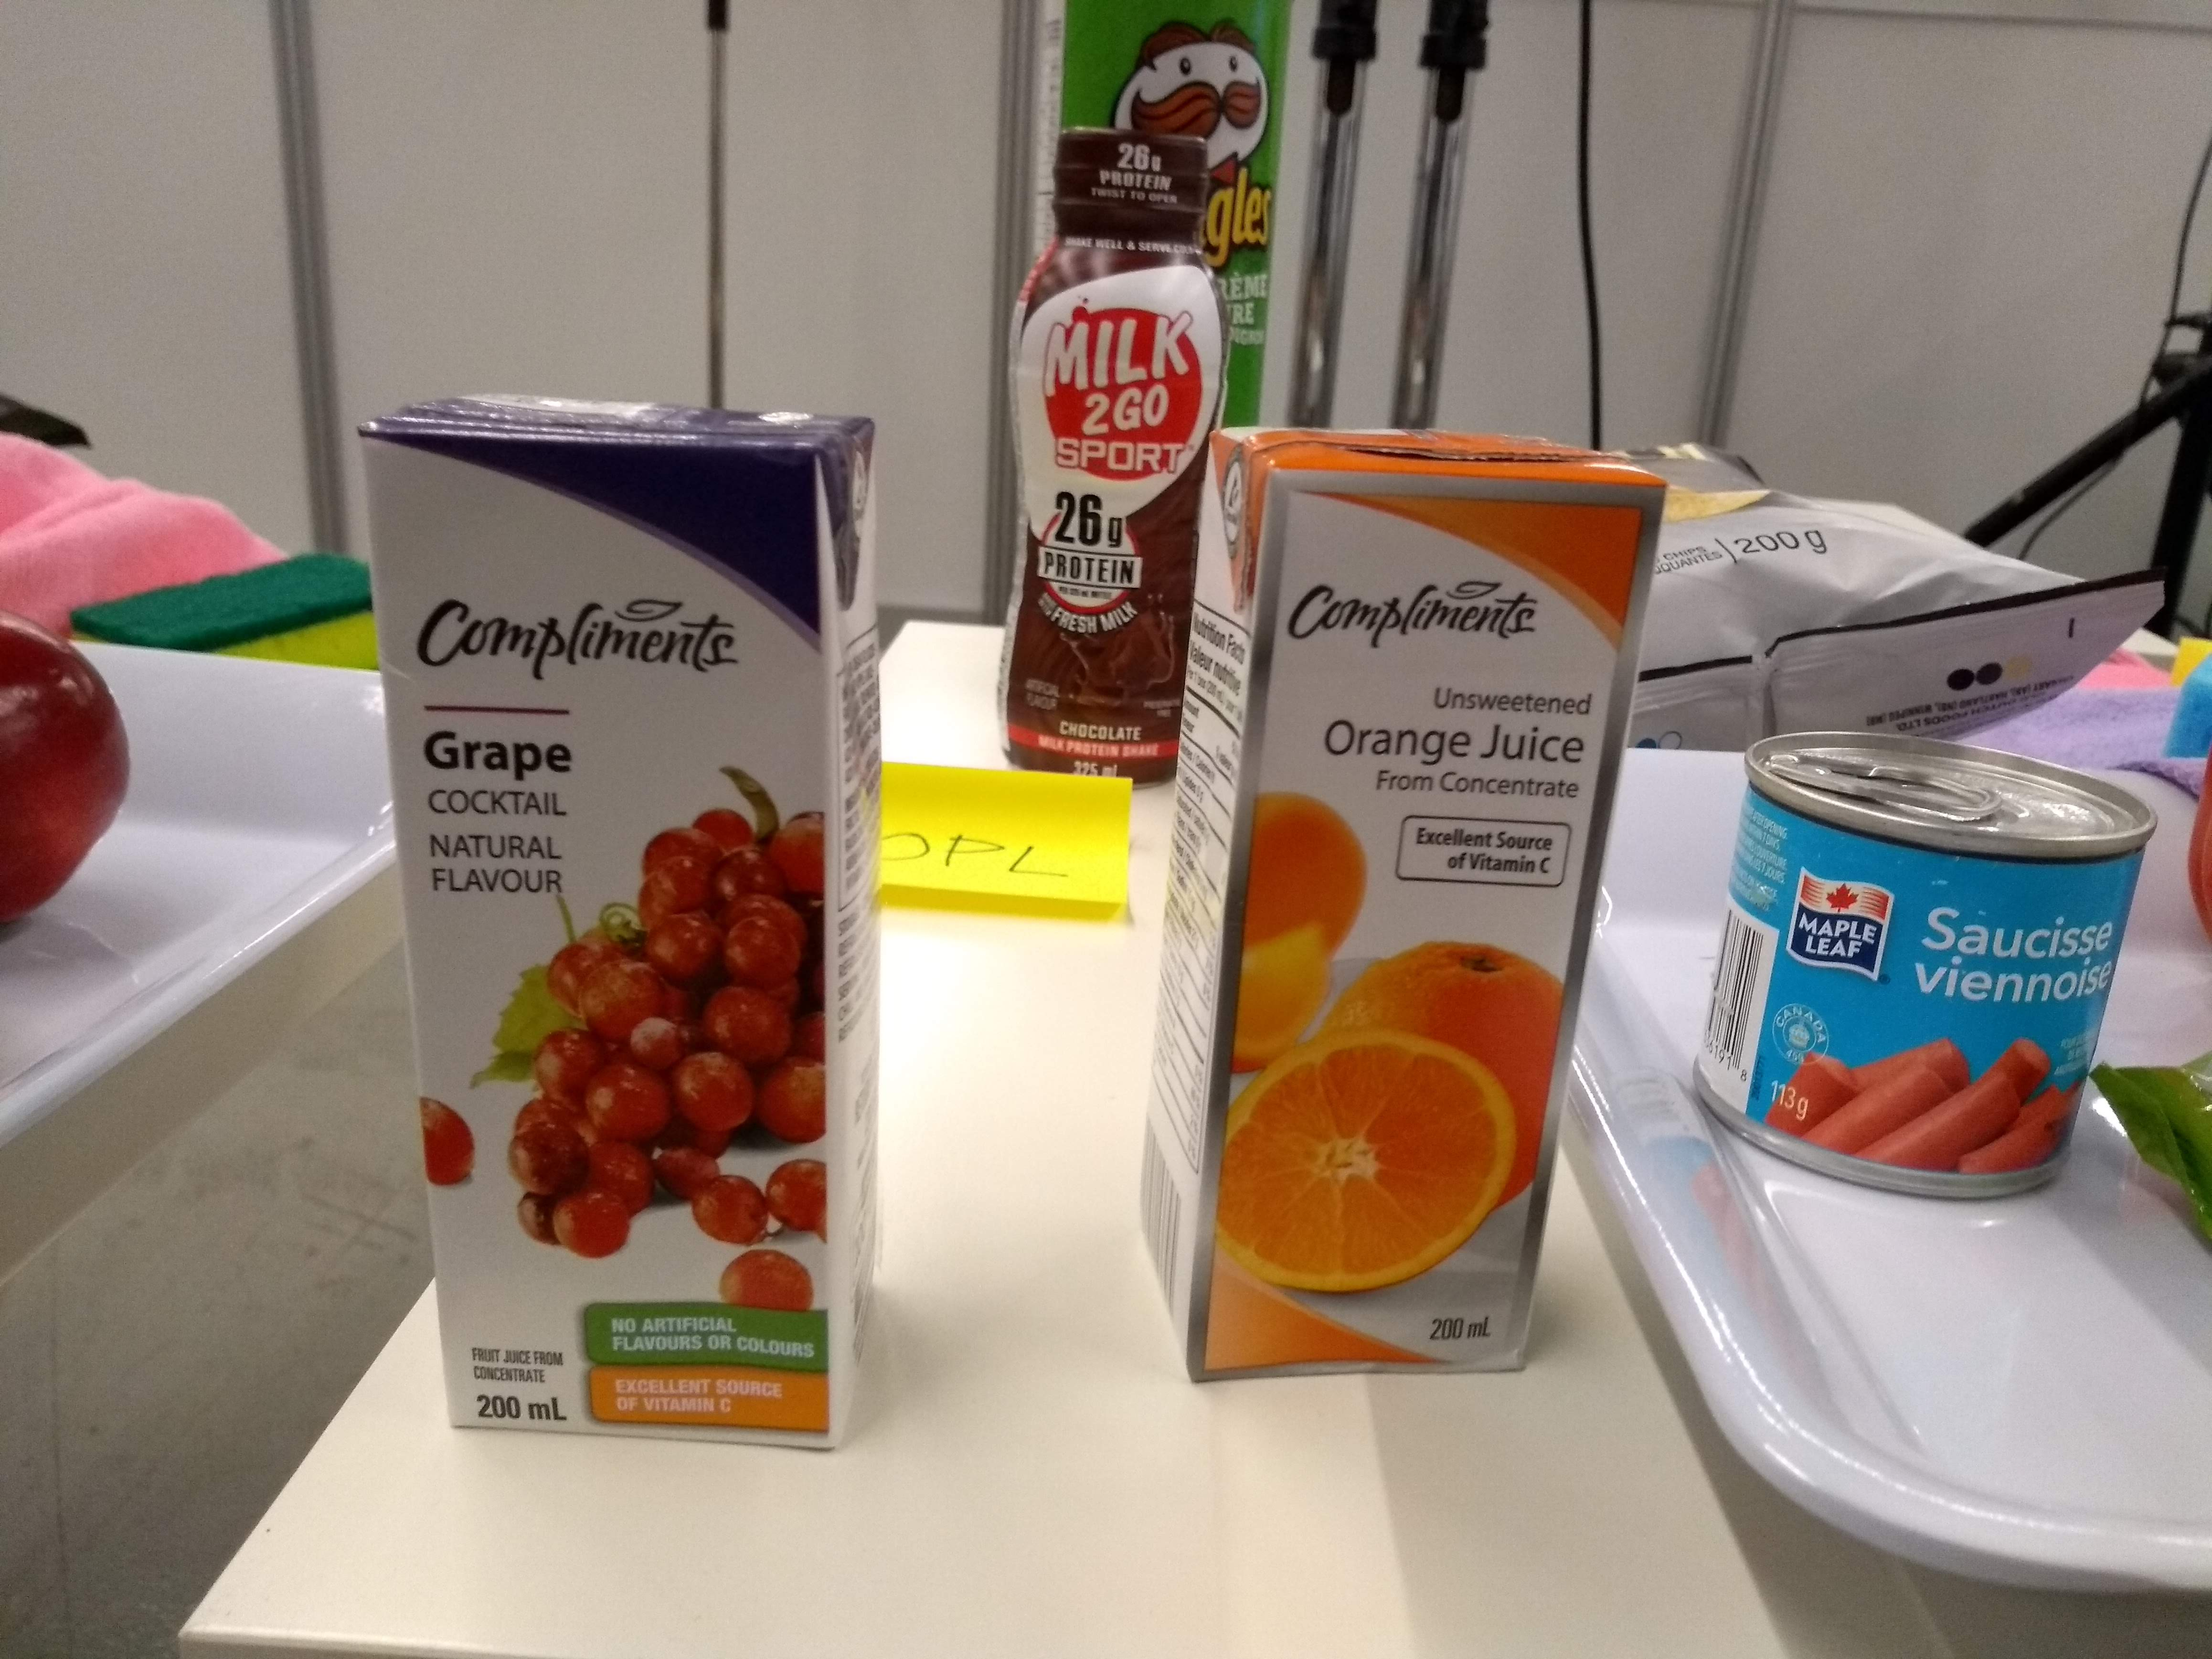chocolate_drink: (988, 113, 1242, 793)
grape_juice: (340, 371, 895, 1469)
orange_juice: (1118, 415, 1683, 1387)
sausages: (1683, 716, 2165, 1218)
